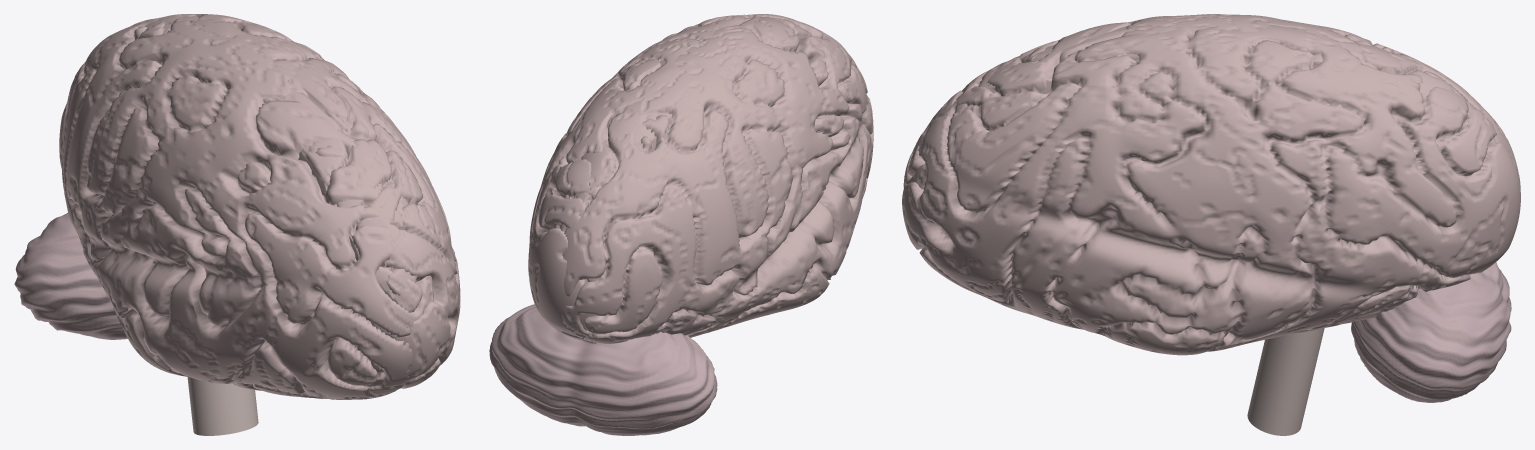
The model's file is brain.v2.glb.
3 renders of one model, left to right at view 1: azimuth 30°, elevation 25°; view 2: azimuth 150°, elevation 25°; view 3: azimuth 270°, elevation 25°, orthographic. The views are drawn at different scales.
Parts seen in each view (by area): view 1: Cerebrum_L, Cerebrum_R, Cerebellum, Brainstem; view 2: Cerebrum_L, Cerebellum, Cerebrum_R; view 3: Cerebrum_R, Cerebellum, Cerebrum_L, Brainstem.
Boxes of the visible parts, <box> form: Cerebrum_L: <box>59,16,434,399</box>; Cerebrum_R: <box>134,14,460,391</box>; Cerebellum: <box>14,213,127,339</box>; Brainstem: <box>187,377,258,435</box>; Cerebrum_L: <box>556,17,873,343</box>; Cerebellum: <box>489,304,717,435</box>; Cerebrum_R: <box>528,14,823,340</box>; Cerebrum_R: <box>902,25,1520,355</box>; Cerebellum: <box>1351,262,1511,402</box>; Cerebrum_L: <box>903,14,1520,248</box>; Brainstem: <box>1247,328,1324,435</box>.
Size of the model in its own units: 1.29 by 1.88 by 2.63.
